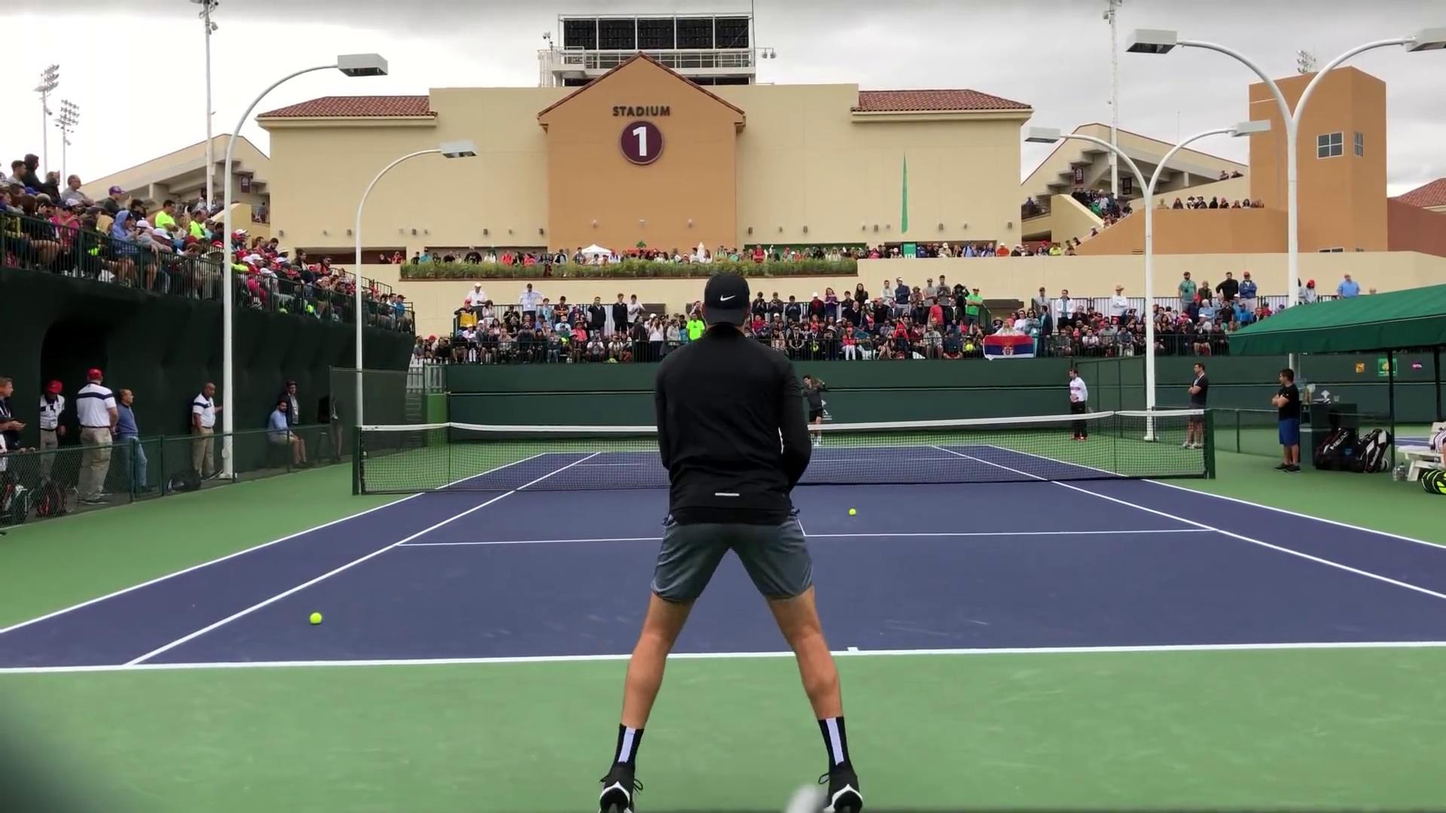ball: (310, 612, 322, 625), (848, 508, 857, 517)
